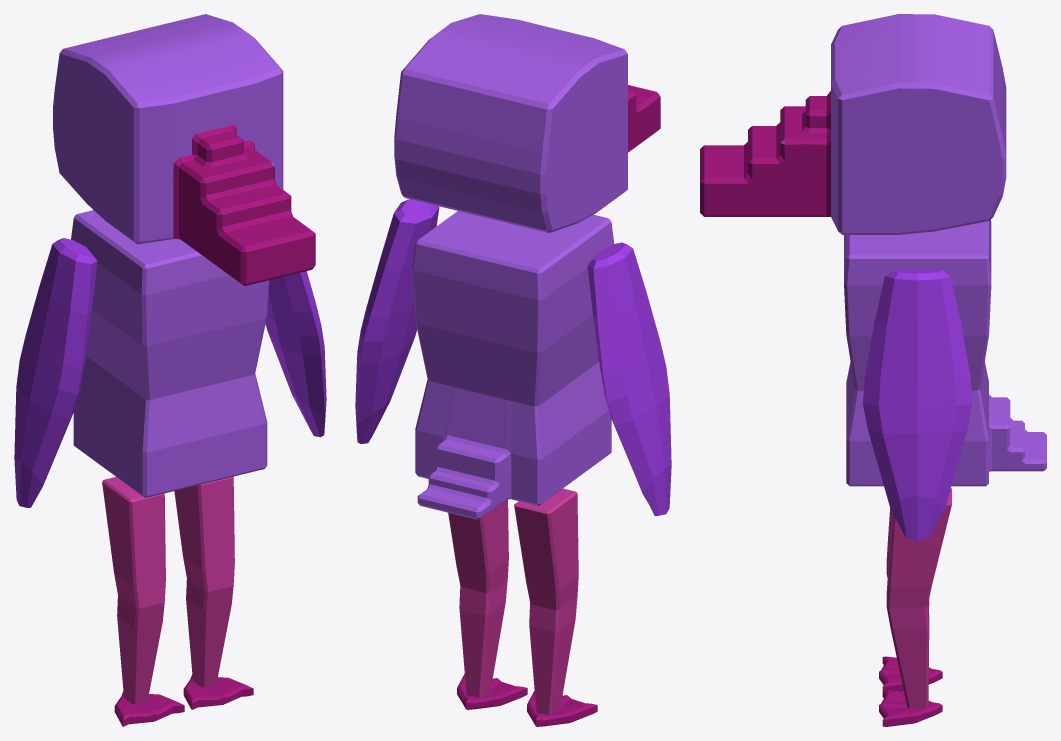
The model's file is PatoPlayer2.fbx.
3 renders of one model, left to right at view 1: azimuth 30°, elevation 25°; view 2: azimuth 150°, elevation 25°; view 3: azimuth 270°, elevation 25°, orthographic. The views are drawn at different scales.
Visible parts, largest first — view 1: pCube8, pCube9, pCylinder3, polySurface16, polySurface17, pCylinder2; view 2: pCube9, pCube8, pCylinder3, polySurface16, pCylinder2, polySurface17; view 3: pCube8, pCylinder2, pCube9, polySurface17, polySurface16.
Part boxes in pixels (<box>): pCube8: <box>53,14,315,285</box>; pCube9: <box>71,210,269,497</box>; pCylinder3: <box>14,238,97,507</box>; polySurface16: <box>102,477,184,726</box>; polySurface17: <box>174,476,253,709</box>; pCylinder2: <box>265,271,326,437</box>; pCube9: <box>412,211,614,519</box>; pCube8: <box>394,14,660,232</box>; pCylinder3: <box>587,242,671,515</box>; polySurface16: <box>514,488,597,726</box>; pCylinder2: <box>355,199,439,443</box>; polySurface17: <box>448,499,527,709</box>; pCube8: <box>700,14,1006,234</box>; pCylinder2: <box>863,268,972,541</box>; pCube9: <box>844,219,1046,486</box>; polySurface17: <box>879,488,951,726</box>; polySurface16: <box>879,508,942,691</box>.
Bounding box in the file's own units: 112 × 232 × 113.
